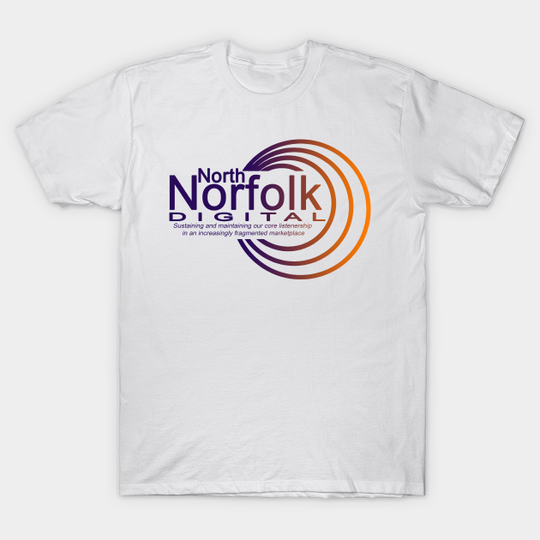design: (167, 135, 373, 281)
